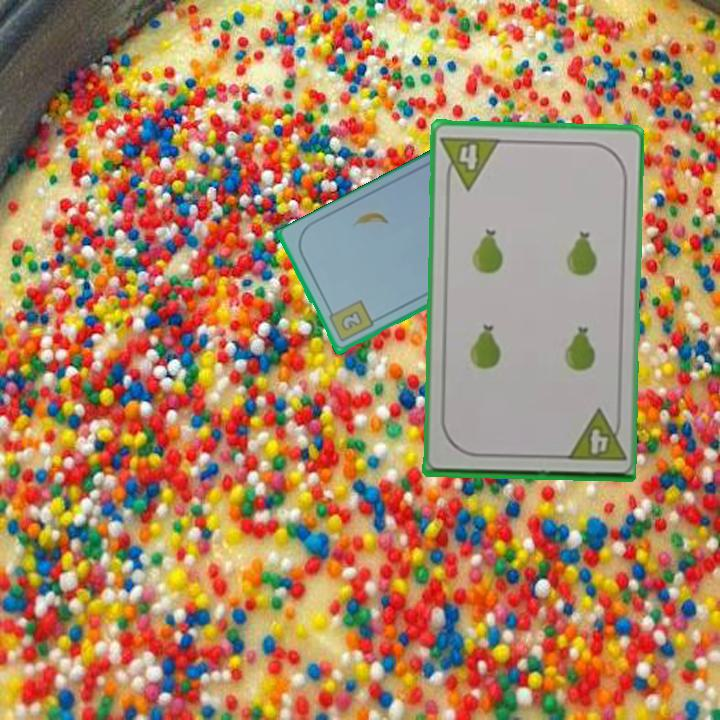2b: (325, 297, 376, 345)
4p: (437, 132, 502, 192), (562, 406, 627, 464)
